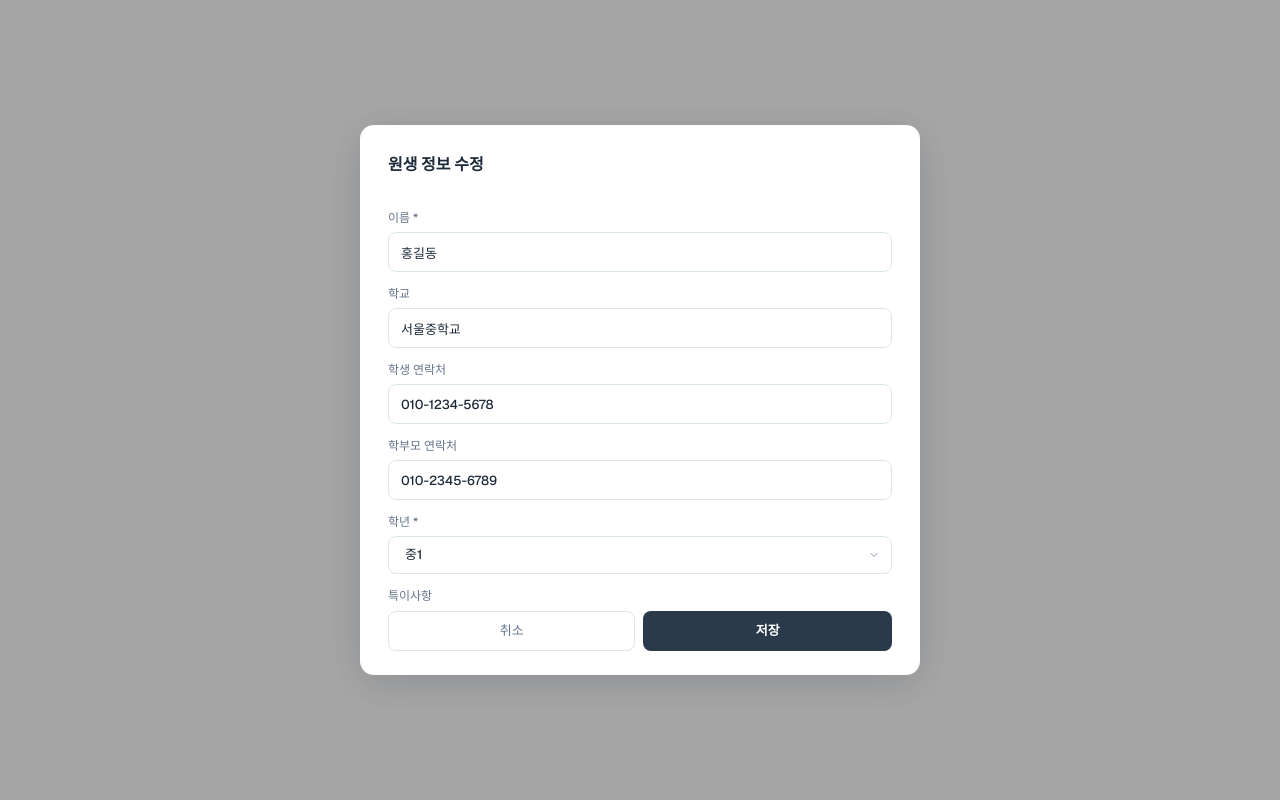
Scenario: UpdateStudentModal › 이름을 지우고 제출하면 에러 메시지를 노출한다
Clear the field showing "홍길동". click: (640, 252)
box: 388,232 -> 892,272
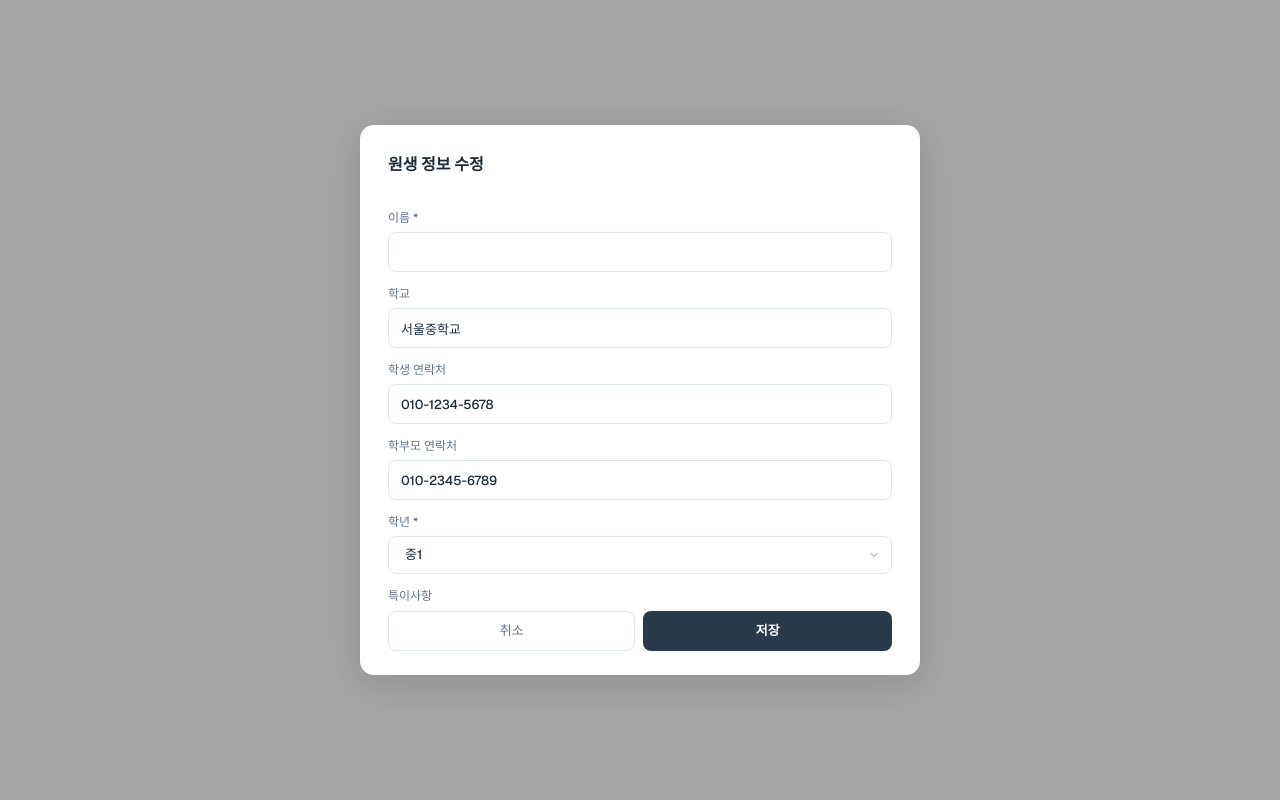
Submit the form "저장", box 360,125 -> 920,675
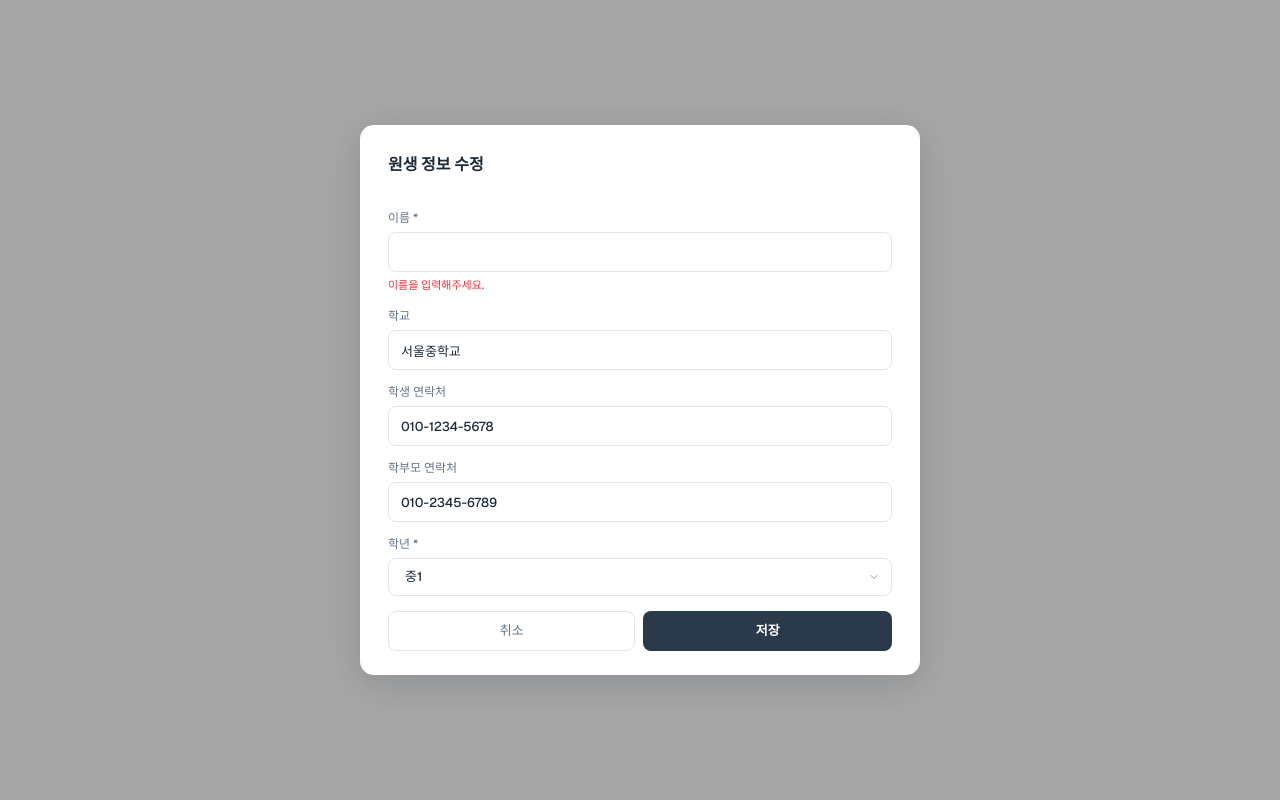
Expected: the text "이름을 입력해주세요." is shown, 388,278 -> 484,292
